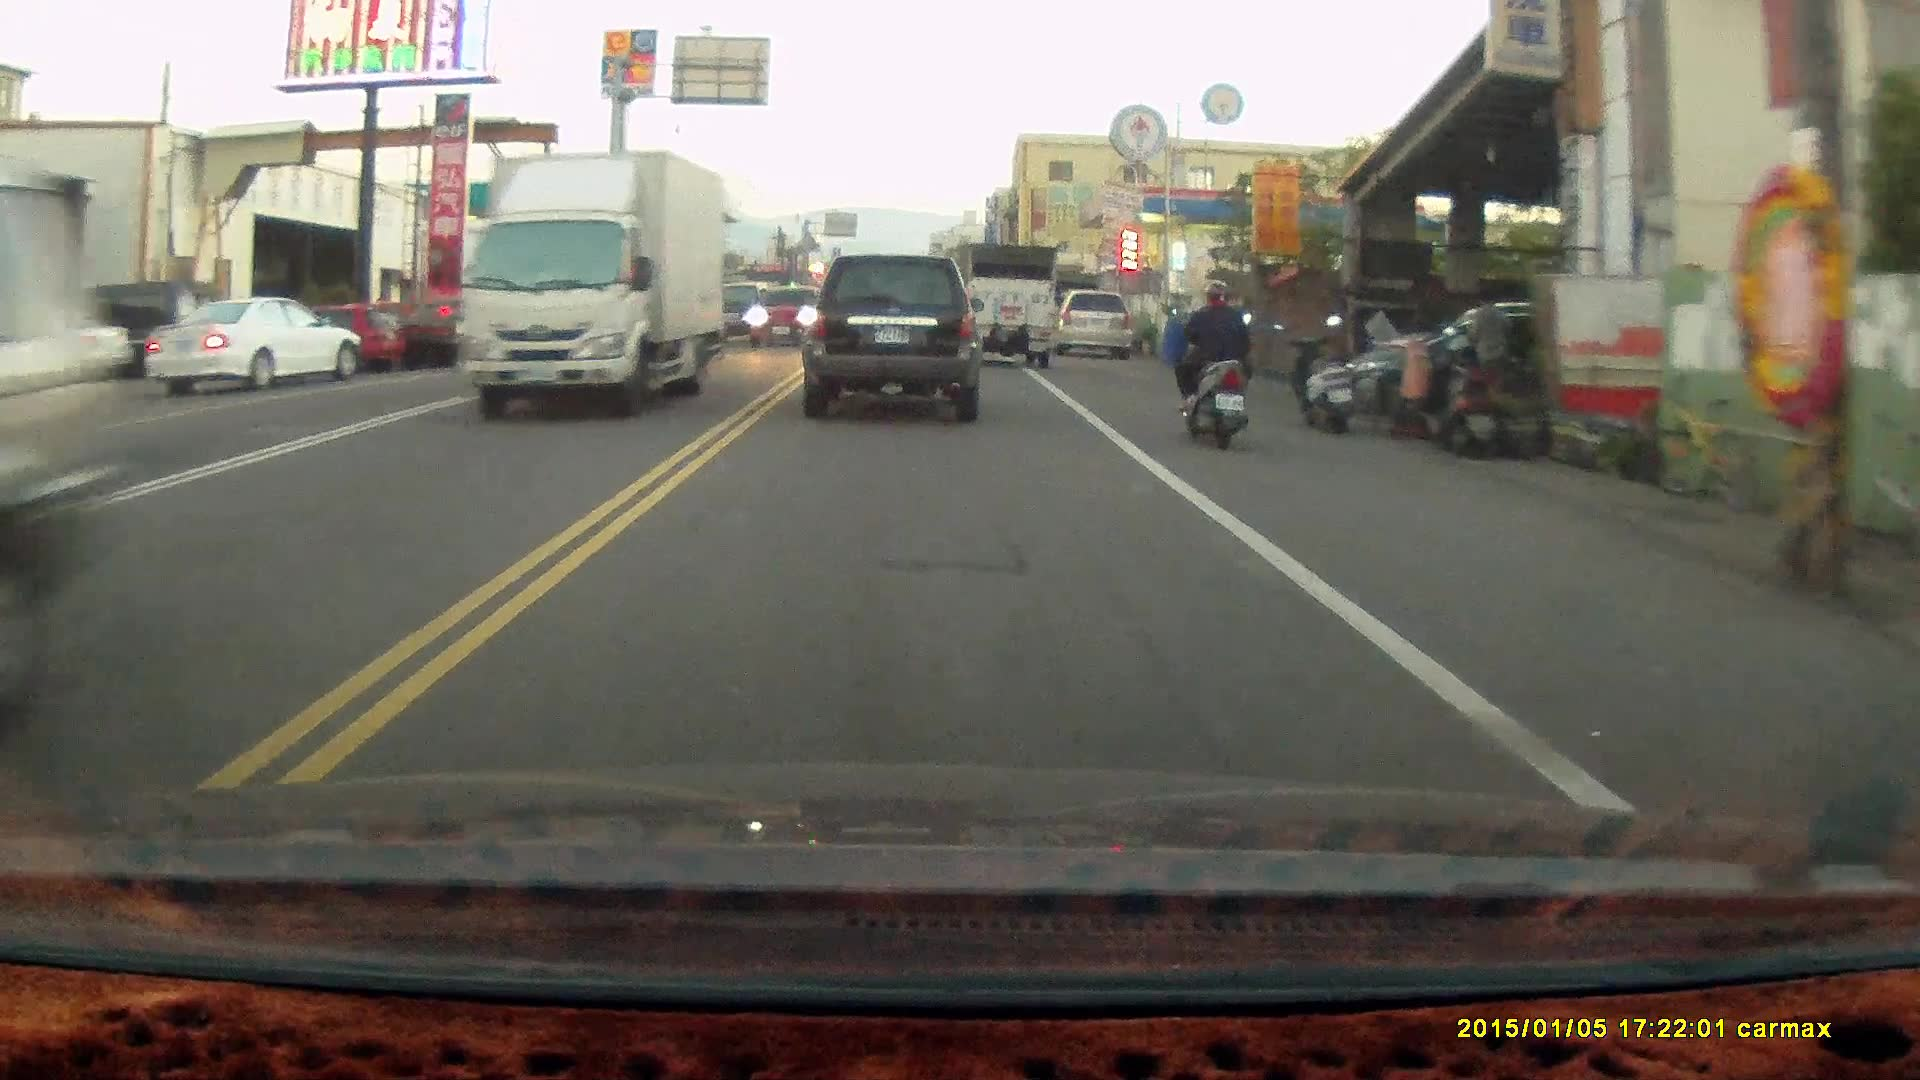pedestrian: (1465, 287, 1515, 420)
rider: (1168, 277, 1253, 452)
vehicle: (464, 144, 734, 423), (797, 248, 983, 420), (146, 299, 371, 400), (965, 237, 1058, 364), (1055, 285, 1133, 358)
